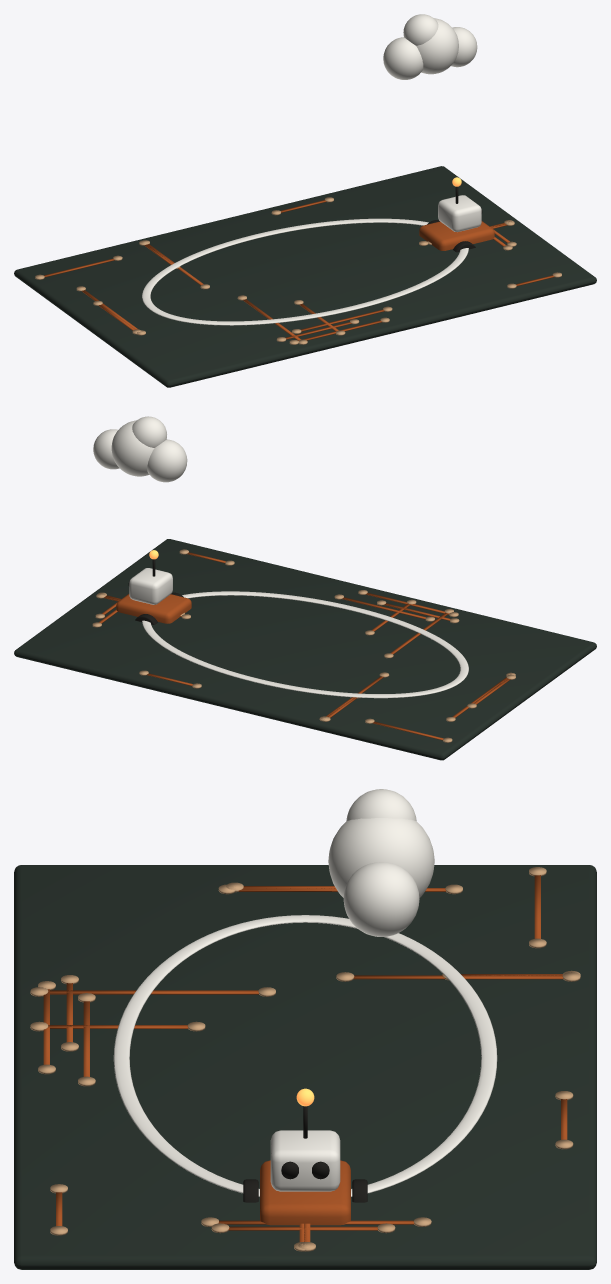
File: robotics.glb
3 views of the same model, one above another, from view 1: azimuth 30°, elevation 25°; view 2: azimuth 150°, elevation 25°; view 3: azimuth 270°, elevation 25° (orthographic). The views are drawn at different scales.
Visible parts, largest first — view 1: Board, Cloud, Track, Robot, Head; view 2: Board, Cloud, Track, Robot, Head; view 3: Board, Cloud, Track, Robot, Head, Trace.008, Trace.011, Trace.003.
Part boxes in pixels (<box>): Board: <box>14,166,596,387</box>; Cloud: <box>383,14,477,79</box>; Track: <box>142,218,468,325</box>; Robot: <box>419,221,494,250</box>; Head: <box>438,195,481,232</box>; Board: <box>14,539,596,760</box>; Cloud: <box>93,416,187,482</box>; Track: <box>142,591,468,698</box>; Robot: <box>116,594,191,623</box>; Head: <box>129,568,172,604</box>; Board: <box>14,865,596,1269</box>; Cloud: <box>328,789,434,936</box>; Track: <box>113,915,497,1196</box>; Robot: <box>260,1160,350,1225</box>; Head: <box>270,1130,340,1191</box>; Trace.008: <box>353,975,563,979</box>; Trace.011: <box>48,990,258,994</box>; Trace.003: <box>228,1226,377,1230</box>.
Bounding box in the file's own units: 7.4 × 3.73 × 4.6.
